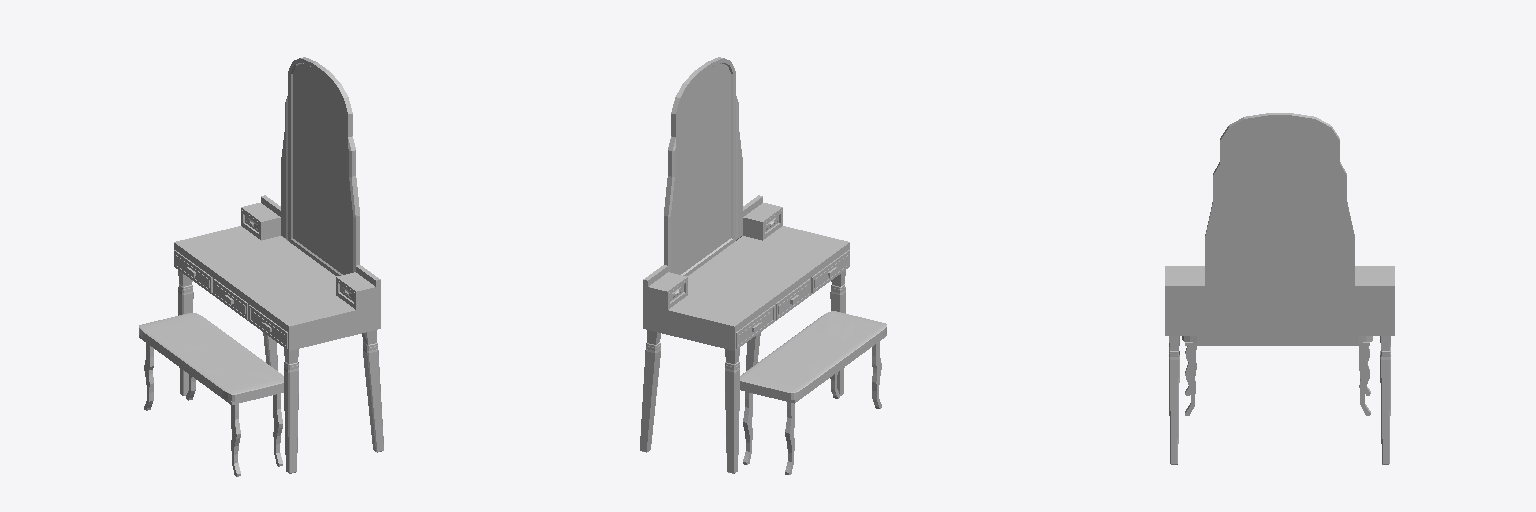
File: Mesa_de_maquiagem.obj
3 views of the same model, side by side, from view 1: azimuth 30°, elevation 25°; view 2: azimuth 150°, elevation 25°; view 3: azimuth 270°, elevation 25° (orthographic).
Parts seen in each view (by area): view 1: Maquiagem; view 2: Maquiagem; view 3: Maquiagem.
Boxes of the visible parts, box(x1,y1,x2,y2) form: Maquiagem: box(139, 57, 383, 476); Maquiagem: box(640, 57, 886, 474); Maquiagem: box(1165, 113, 1394, 464).
Size of the model in its own units: 1.44 by 3.23 by 1.95.